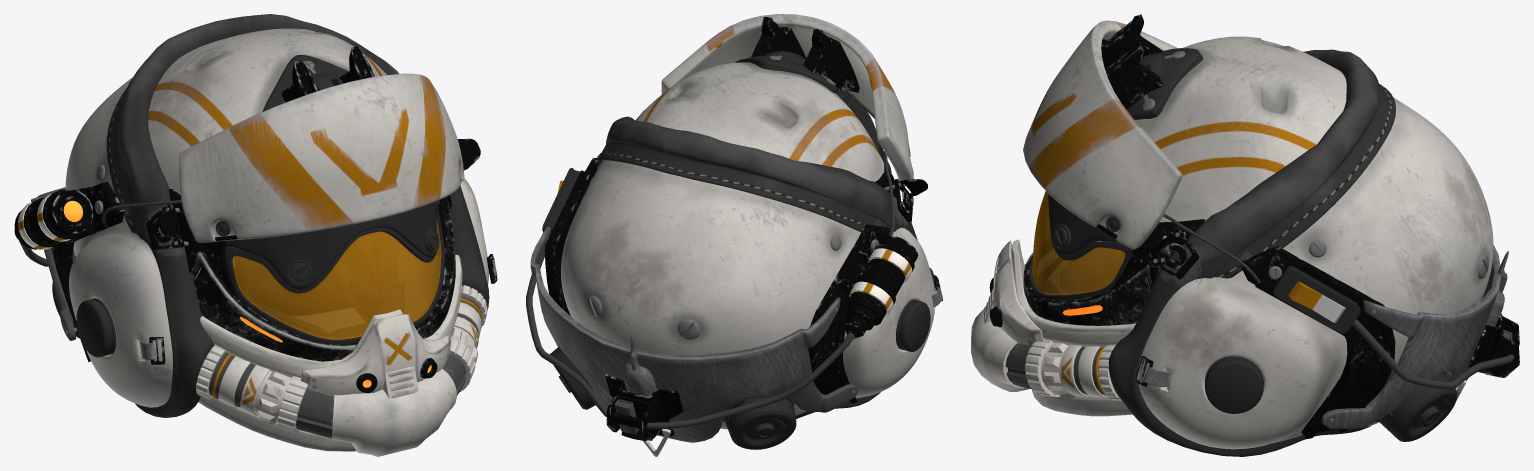
File: vipers_helmet.glb
The picture shows the model from 3 angles, left to right: view 1: azimuth 30°, elevation 25°; view 2: azimuth 150°, elevation 25°; view 3: azimuth 270°, elevation 25°; orthographic projection. The views are drawn at different scales.
Parts seen in each view (by area): view 1: Visor_Cover_2_9, Leather_Cover_7, Head_Main_2_5, Visor_20, Head_Main_1_4, Mask_2_41, Mask_3_8, Face_1_13, Face_2_14, Mask_1_17, Visor_Cover_1_21, Tactical_Light_46 (+10 smaller); view 2: Head_Main_2_5, Back_Mount_12, Head_Main_1_4, Leather_Cover_7, Visor_Cover_2_9, Headgear_mount_2_32, Tactical_Light_46, Cylinders_28, Visor_Cover_Mount_51, Wire_1_52, Headset_Control_15, Antenna_Cover_23 (+9 smaller); view 3: Head_Main_2_5, Head_Main_1_4, Leather_Cover_7, Visor_Cover_2_9, Back_Mount_12, Headgear_mount_2_32, Visor_20, Mask_2_41, Face_2_14, Face_1_13, Visor_Cover_Mount_51, Light_Switch_40 (+12 smaller).
Boxes of the visible parts, left/top/right/bottom form: Visor_Cover_2_9: left=179, top=73, right=464, bottom=242; Leather_Cover_7: left=106, top=14, right=489, bottom=417; Head_Main_2_5: left=65, top=77, right=488, bottom=407; Visor_20: left=225, top=203, right=444, bottom=344; Head_Main_1_4: left=148, top=28, right=446, bottom=298; Mask_2_41: left=196, top=285, right=487, bottom=438; Mask_3_8: left=331, top=369, right=456, bottom=456; Face_1_13: left=191, top=196, right=455, bottom=361; Face_2_14: left=198, top=254, right=462, bottom=451; Mask_1_17: left=301, top=314, right=450, bottom=396; Visor_Cover_1_21: left=225, top=201, right=437, bottom=289; Tactical_Light_46: left=14, top=189, right=93, bottom=249; Head_Main_2_5: left=561, top=160, right=935, bottom=429; Back_Mount_12: left=530, top=226, right=858, bottom=442; Head_Main_1_4: left=635, top=62, right=885, bottom=181; Leather_Cover_7: left=597, top=116, right=935, bottom=418; Visor_Cover_2_9: left=661, top=14, right=913, bottom=186; Headgear_mount_2_32: left=544, top=158, right=889, bottom=403; Tactical_Light_46: left=845, top=235, right=918, bottom=338; Cylinders_28: left=550, top=347, right=796, bottom=449; Visor_Cover_Mount_51: left=751, top=17, right=859, bottom=92; Wire_1_52: left=526, top=252, right=854, bottom=429; Headset_Control_15: left=896, top=299, right=930, bottom=351; Antenna_Cover_23: left=605, top=374, right=683, bottom=422; Head_Main_2_5: left=1138, top=97, right=1493, bottom=449; Head_Main_1_4: left=1110, top=36, right=1346, bottom=290; Leather_Cover_7: left=1108, top=49, right=1395, bottom=456; Visor_Cover_2_9: left=1023, top=20, right=1182, bottom=249; Back_Mount_12: left=1321, top=244, right=1501, bottom=428; Headgear_mount_2_32: left=1241, top=245, right=1395, bottom=439; Visor_20: left=1028, top=191, right=1132, bottom=300; Mask_2_41: left=1005, top=241, right=1121, bottom=400; Face_2_14: left=1011, top=239, right=1135, bottom=416; Face_1_13: left=1023, top=252, right=1152, bottom=325; Visor_Cover_Mount_51: left=1101, top=14, right=1163, bottom=109; Light_Switch_40: left=1273, top=266, right=1360, bottom=333.
Size of the model in its own units: 0.3577 by 0.3228 by 0.4213.
Materials: 5 (4 with a texture image).
